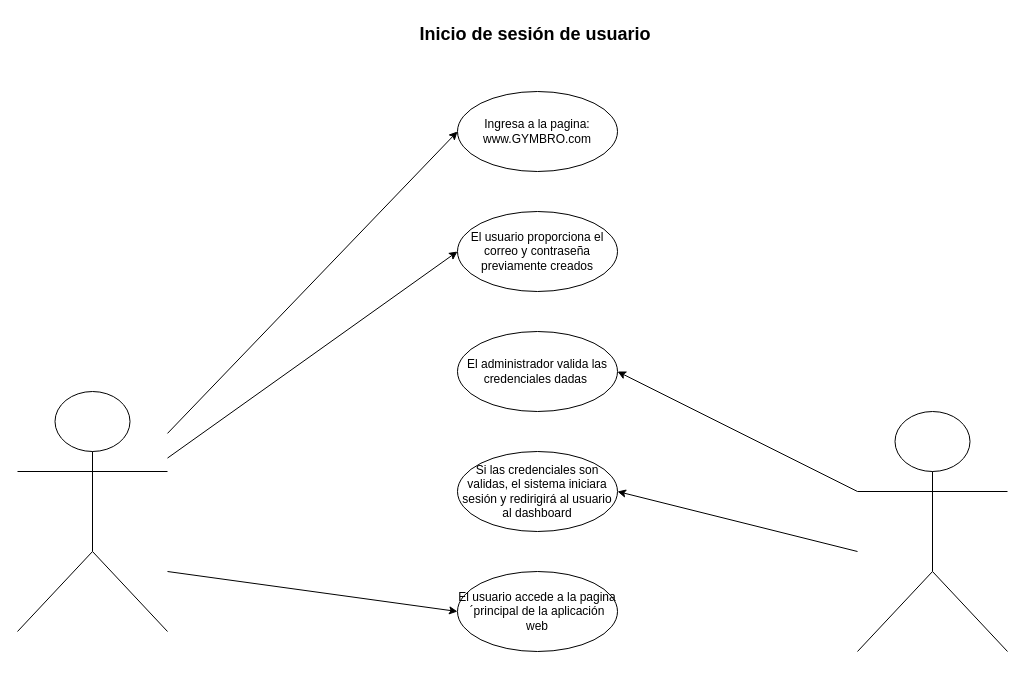
This 1025x689 diagram has some shape labels left out. Here are the shapes that lost their labels. From the top down, the box of each, then its label:
(16, 390, 168, 632): Usuario
(856, 410, 1008, 652): Administrador
